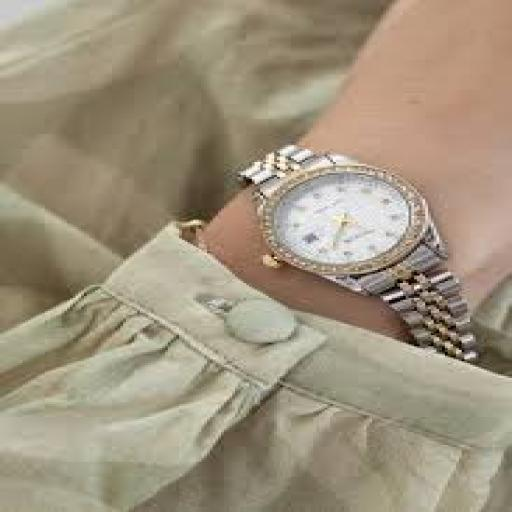KolSaati: (202, 136, 502, 370)
